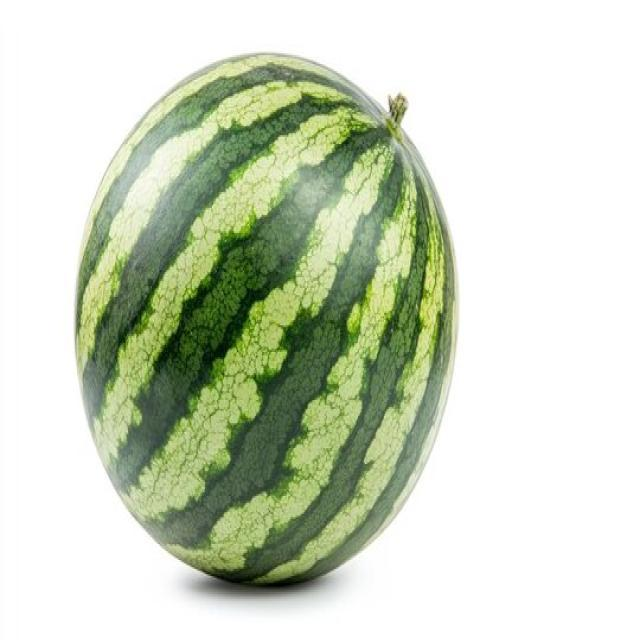Watermelon: (67, 46, 482, 592)
